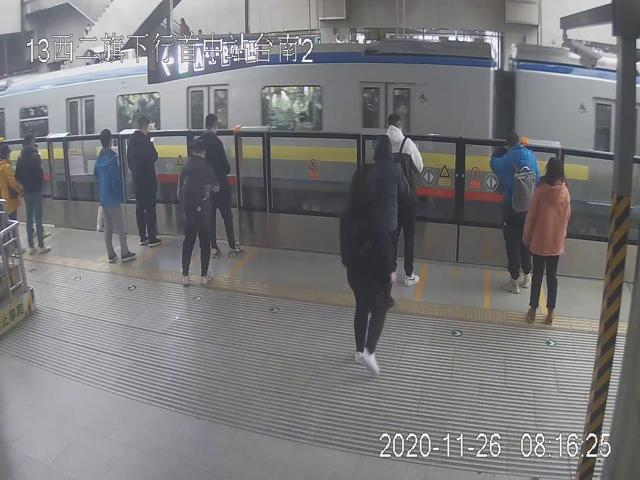person: (340, 165, 394, 375), (489, 130, 540, 292), (522, 156, 570, 324), (386, 112, 423, 287), (178, 137, 220, 287), (202, 113, 245, 256), (95, 128, 136, 262), (127, 116, 166, 248), (17, 133, 52, 253)
